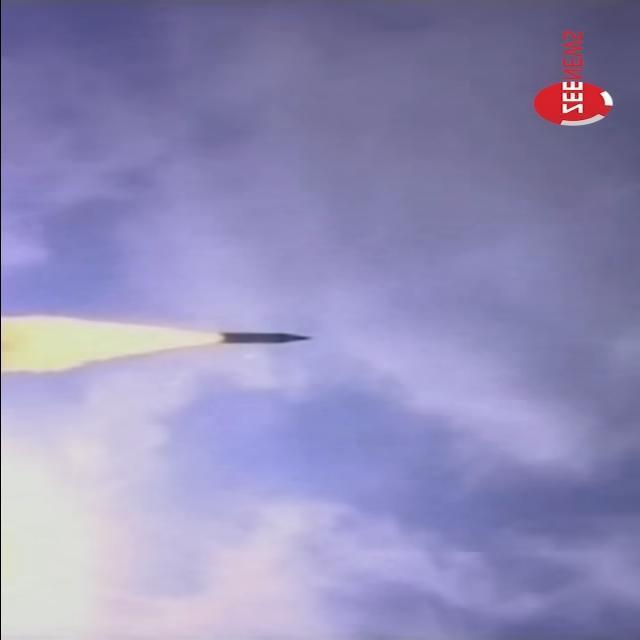Missile: (210, 329, 313, 346)
